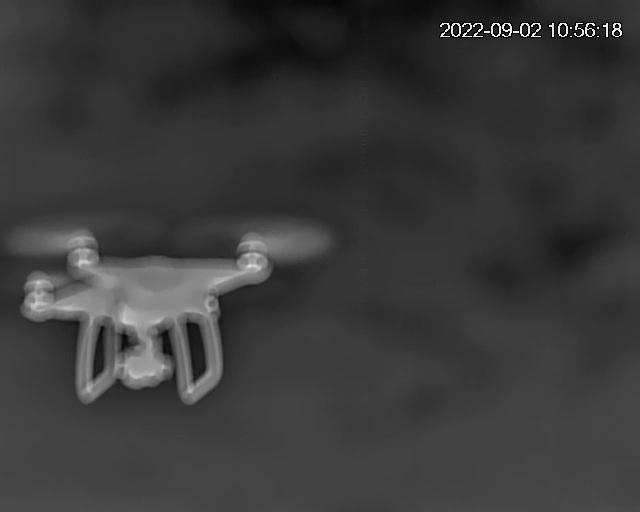DJI-Phantom: (19, 225, 278, 408)
